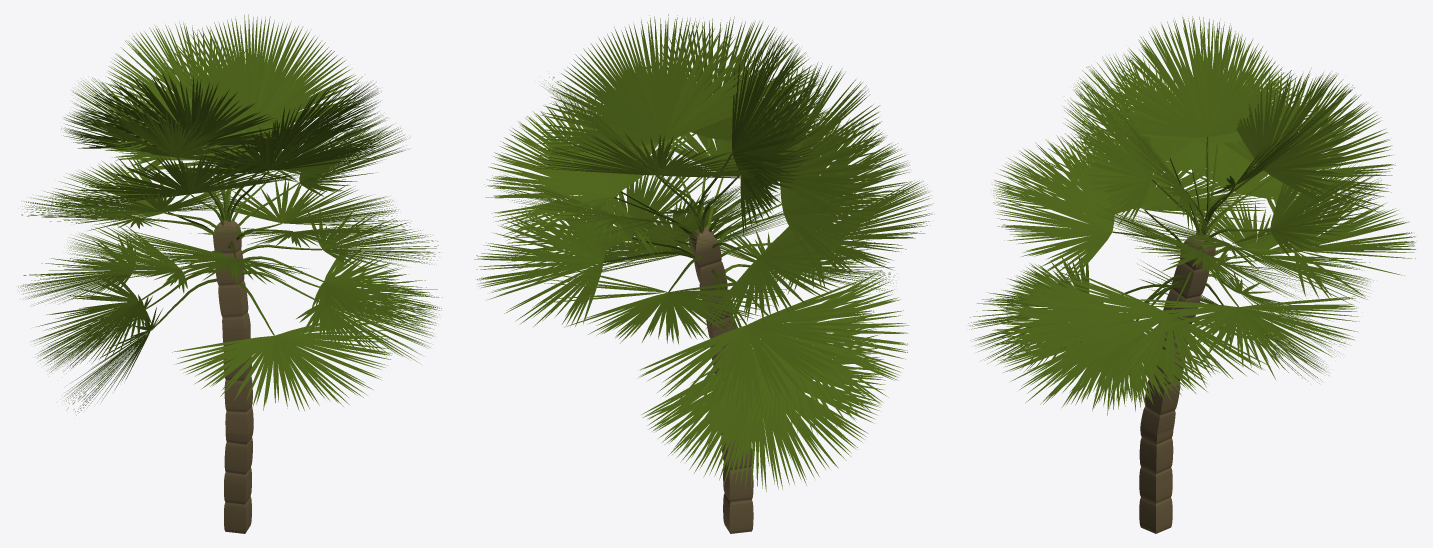
Rendered from fanPalm.obj.
3 views of the same model, side by side, from view 1: azimuth 30°, elevation 25°; view 2: azimuth 150°, elevation 25°; view 3: azimuth 270°, elevation 25° (orthographic). The views are drawn at different scales.
Visible parts, largest first — view 1: leaves, leaves2, trunk, stems_1; view 2: leaves2, leaves, trunk, stems_1; view 3: leaves, leaves2, trunk, stems_1.
Boxes of the visible parts, x1,y1,x2,y2 form: leaves: (18,15,441,411); leaves2: (20,16,442,415); trunk: (213,220,253,533); stems_1: (134,130,323,335); leaves2: (474,14,934,491); leaves: (476,15,931,489); trunk: (689,227,753,533); stems_1: (603,138,783,328); leaves: (968,16,1415,415); leaves2: (972,17,1415,411); trunk: (1139,234,1215,533); stems_1: (1101,137,1294,321).
Bounding box in the file's own units: 5.23 × 6.38 × 5.46.
